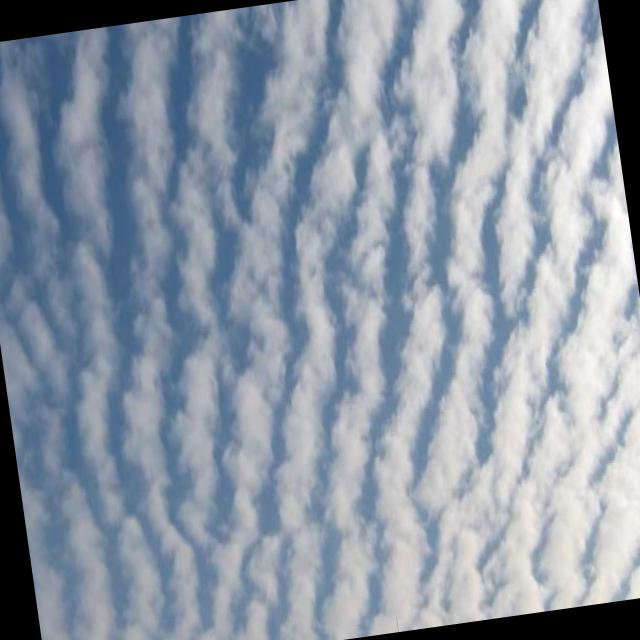altocumulus: (0, 15, 640, 638)
